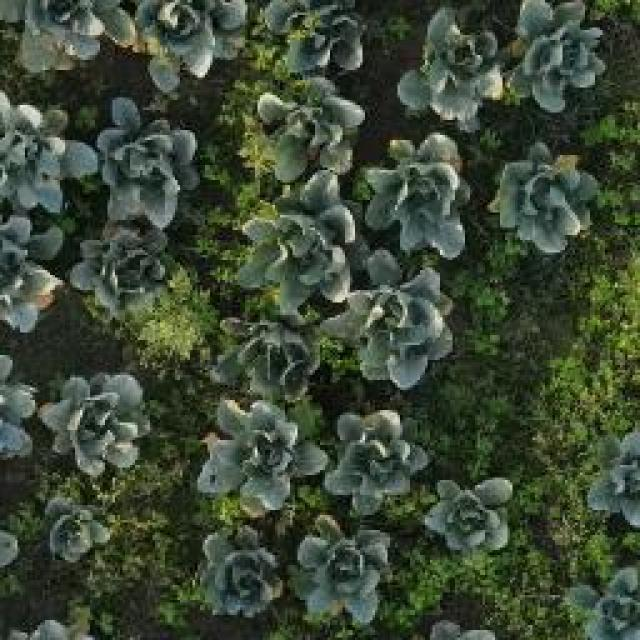cabbage: (230, 177, 353, 302), (365, 134, 471, 260), (338, 267, 450, 385), (85, 112, 195, 230), (210, 392, 320, 510), (398, 7, 507, 126), (492, 140, 601, 254), (295, 514, 398, 630), (41, 367, 147, 479), (508, 0, 613, 112), (0, 88, 95, 210), (253, 75, 365, 176), (326, 404, 428, 510), (134, 0, 255, 86), (211, 304, 326, 394), (69, 232, 186, 320), (0, 0, 138, 73), (197, 520, 287, 622), (422, 472, 519, 563), (263, 0, 375, 75), (0, 217, 63, 335), (575, 426, 640, 522), (565, 560, 640, 640), (38, 492, 119, 560)
